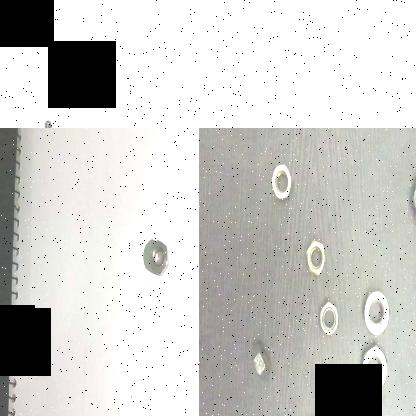NUTS: (358, 288, 392, 338), (361, 340, 389, 396), (267, 157, 293, 207), (315, 294, 341, 340), (246, 336, 272, 382), (304, 235, 330, 280), (146, 235, 172, 278), (406, 159, 416, 231)
